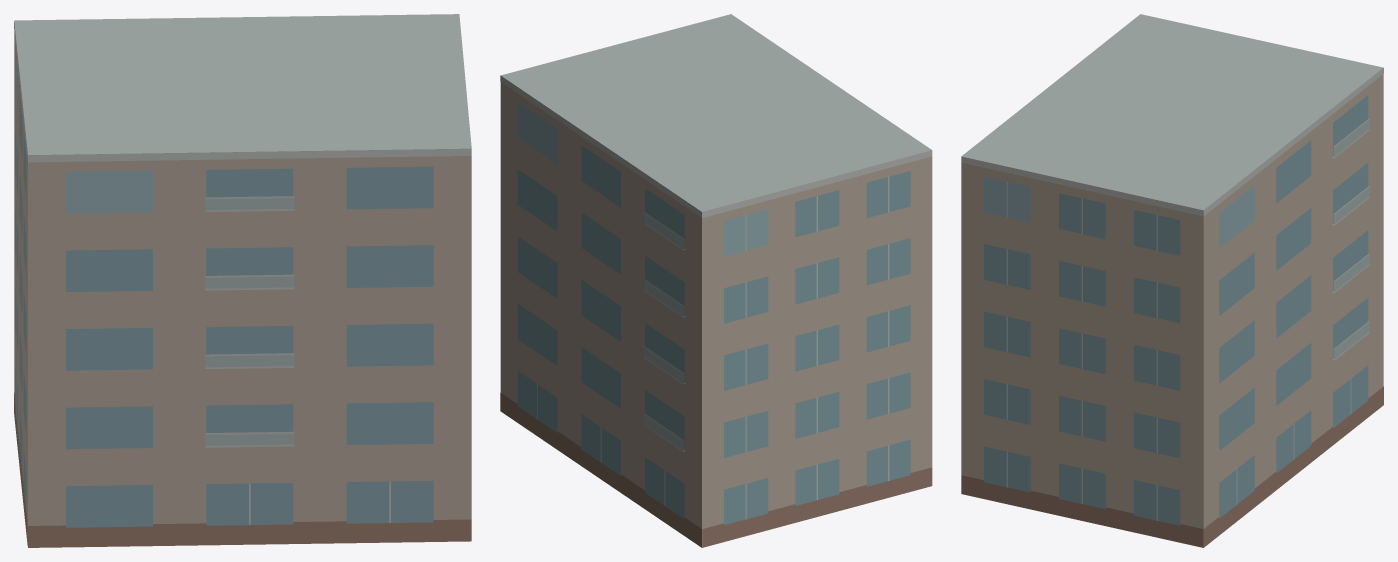
Rendered from survey-upis-32886050.glb.
3 views of the same model, side by side, from view 1: azimuth 30°, elevation 25°; view 2: azimuth 150°, elevation 25°; view 3: azimuth 270°, elevation 25° (orthographic). The views are drawn at different scales.
Visible parts, largest first — view 1: survey-upis-32886050.tmp; view 2: survey-upis-32886050.tmp; view 3: survey-upis-32886050.tmp.
Part boxes in pixels (x1,y1,x2,y2): survey-upis-32886050.tmp: (14, 14, 471, 547); survey-upis-32886050.tmp: (500, 14, 932, 547); survey-upis-32886050.tmp: (961, 14, 1383, 547).
Bounding box in the file's own units: 16.48 × 13.2 × 14.98.
